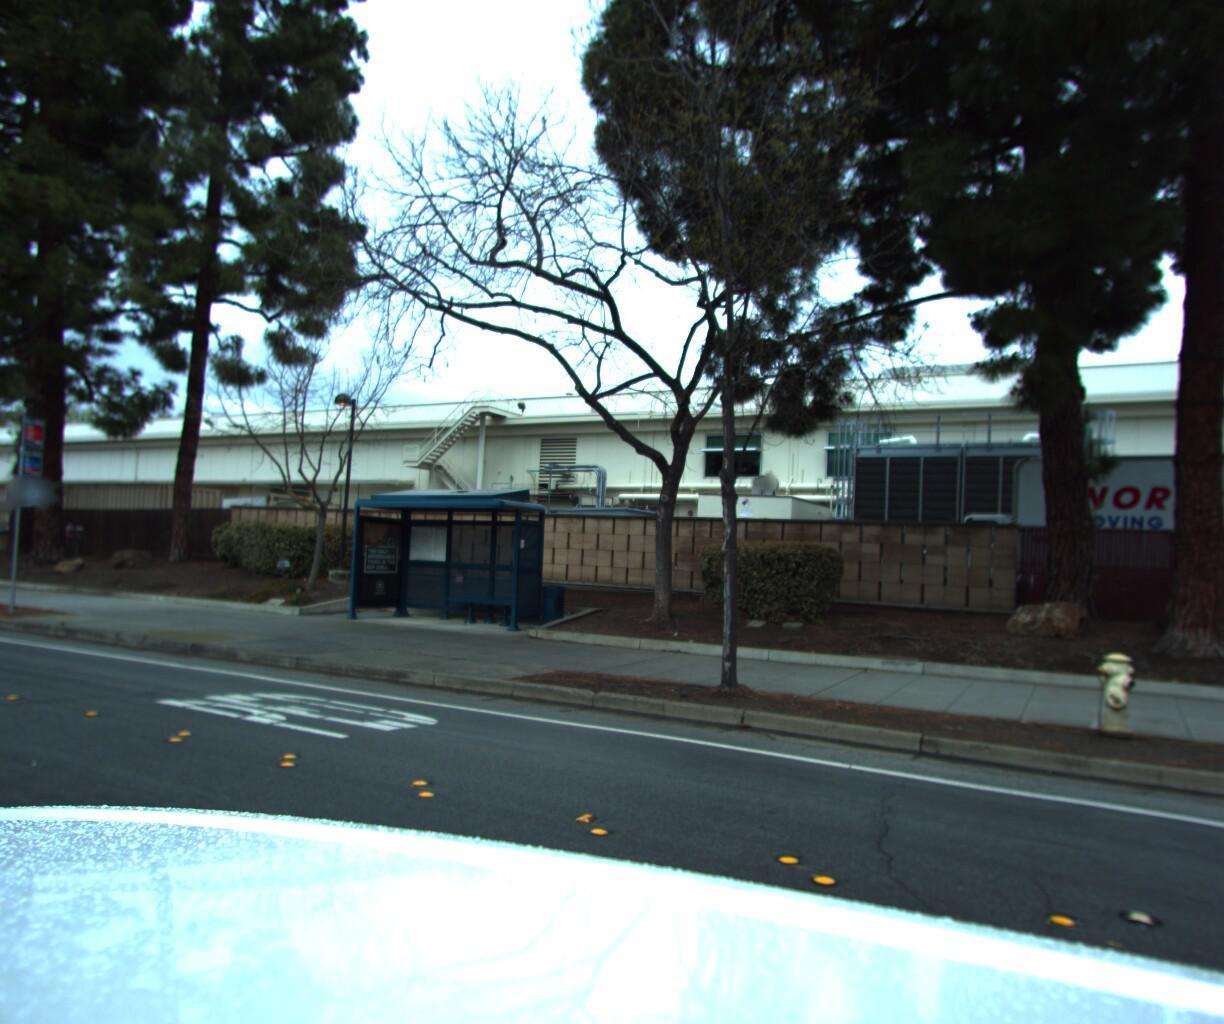truck: (943, 437, 1224, 620)
